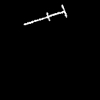double_crochet: (24, 5, 66, 24)
